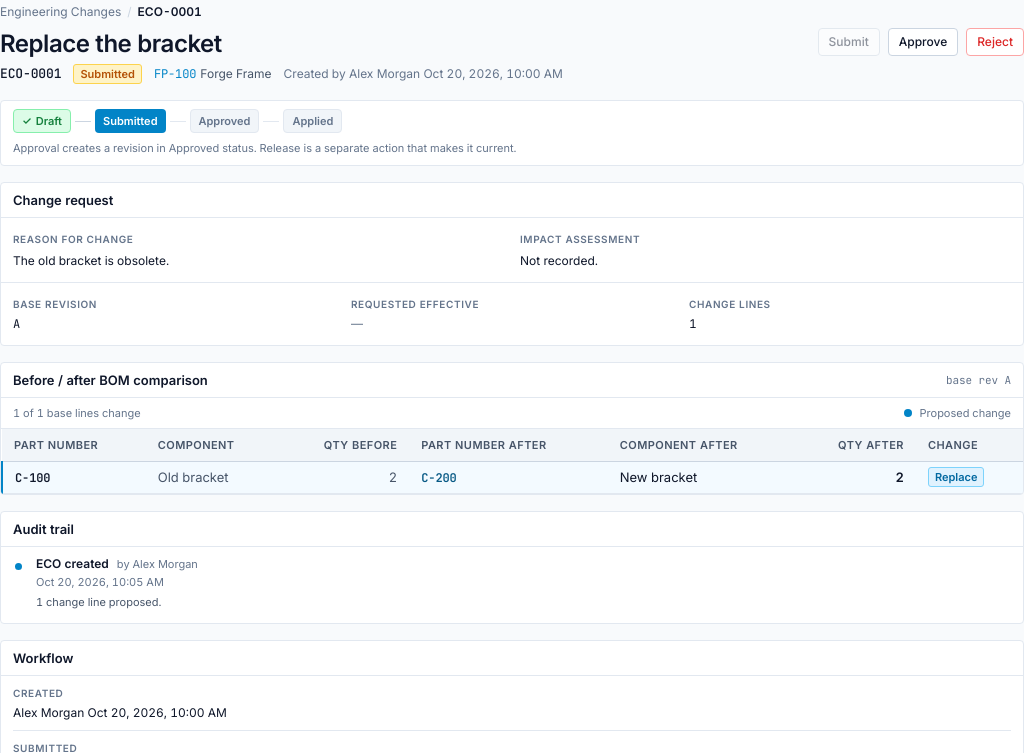
Test case: EcoDetail › approves with the current actor and optional comment
The width and height of the screenshot is (1024, 753).
Check: the heading "Replace the bracket" is shown, box [0,29,222,58]
Check: the button "Submit" is disabled, box [818,28,880,56]
Click the button "Approve".
click(923, 42)  # box [888,28,958,56]
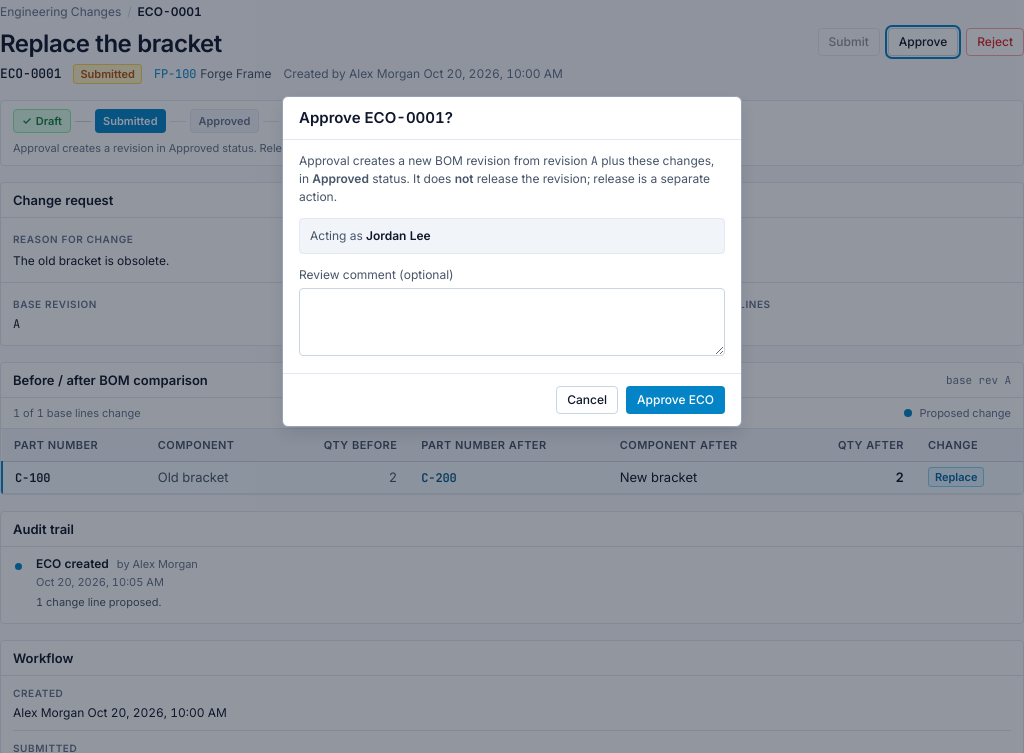
Check: the text "Jordan Lee" is shown, box [366,228,431,243]
Type "Looks good" into the text box labelled "Review comment (optional)".
click(512, 322); type("Looks good")  # box [299,288,725,356]
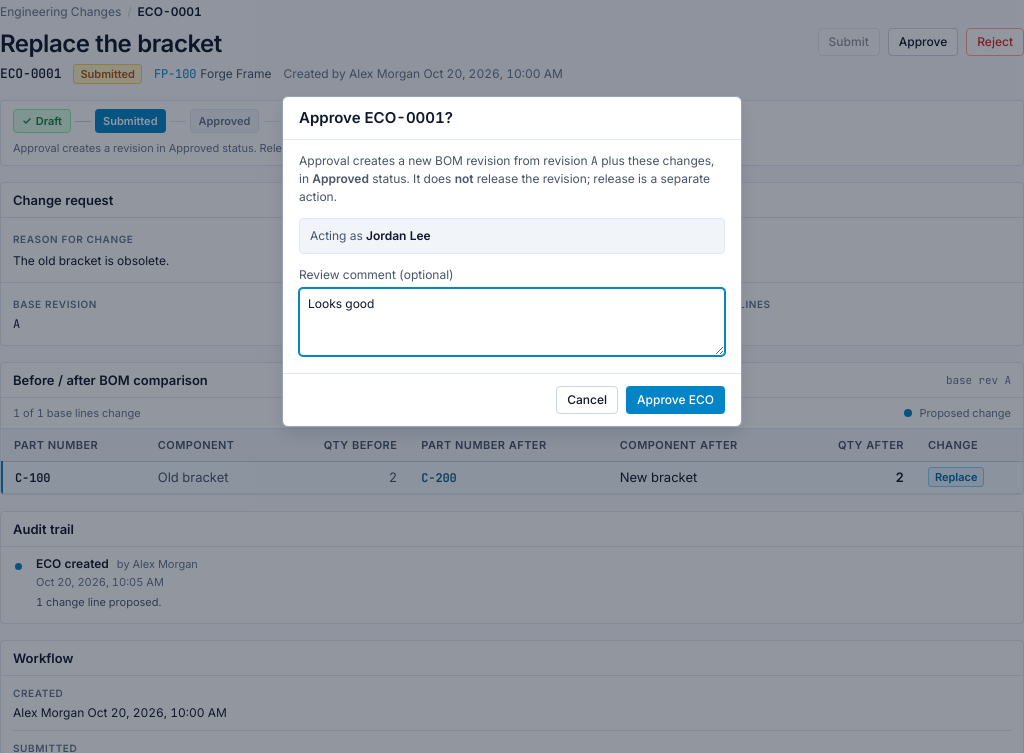
Click the button "Approve ECO".
click(676, 400)  # box [626,386,725,414]
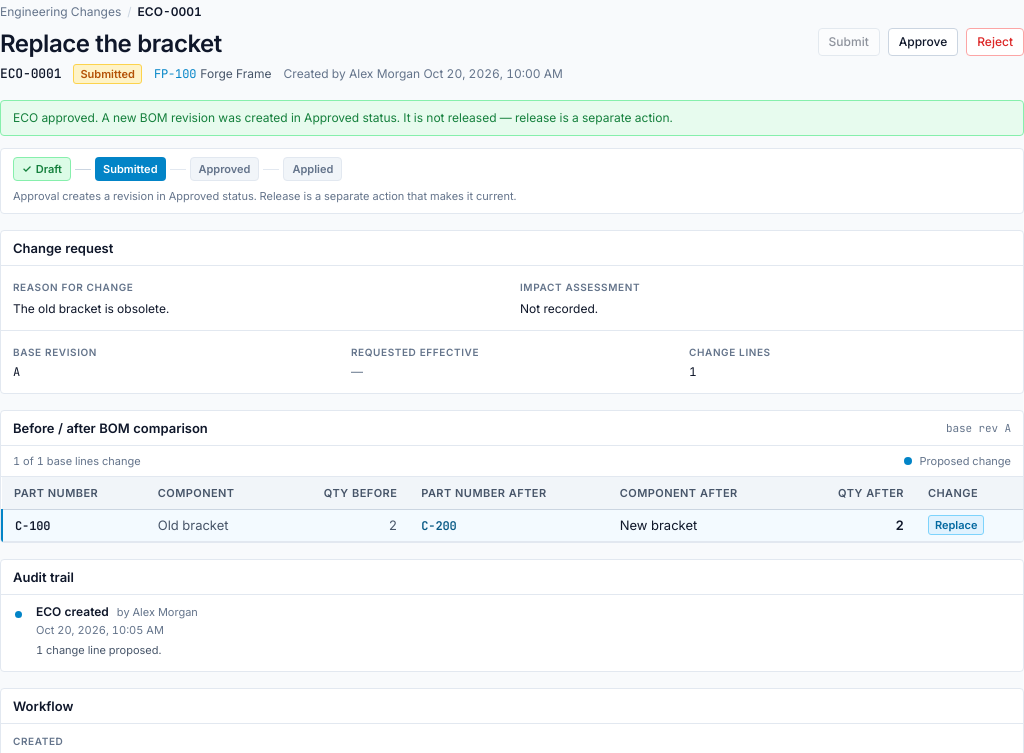
Check: the text "ECO approved" is shown, box [13,110,673,125]
